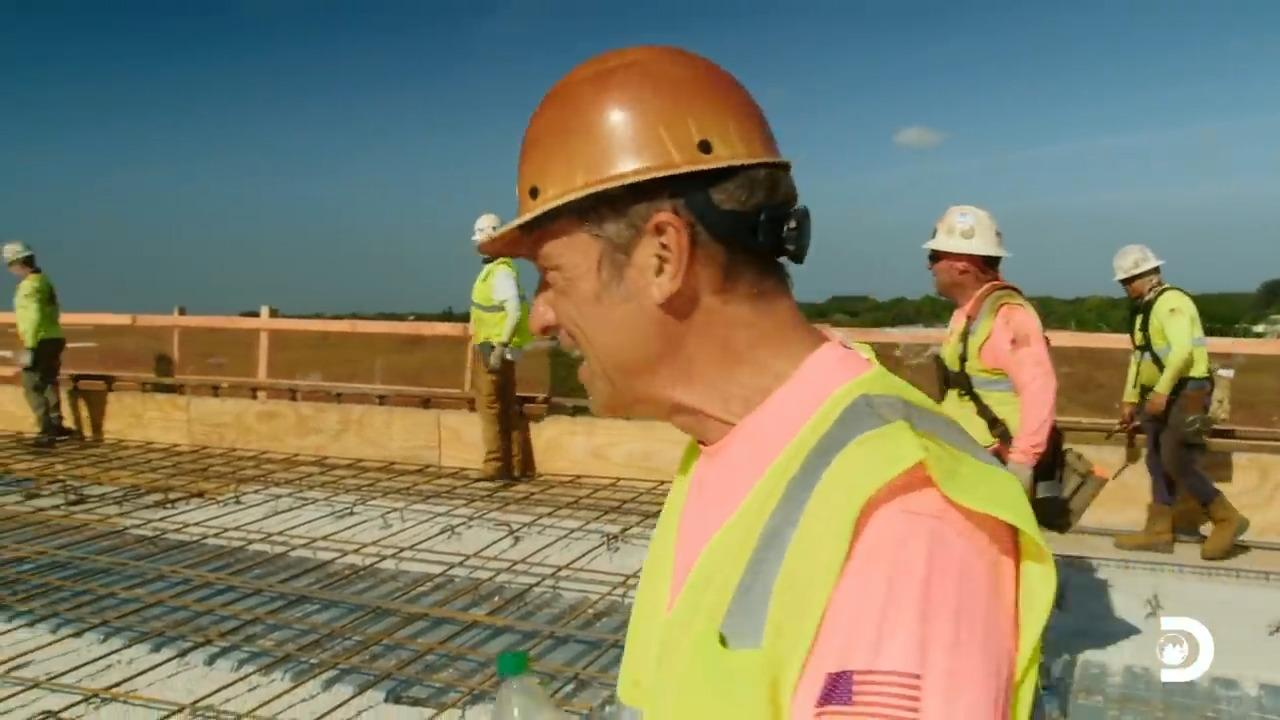Gloves: (1133, 391, 1171, 419), (484, 341, 507, 369), (1118, 408, 1140, 430), (16, 350, 35, 370)
Helmet: (474, 44, 794, 257), (921, 204, 1011, 258), (1111, 243, 1165, 281), (470, 212, 502, 242), (1, 240, 34, 264)
Person: (478, 43, 1060, 719), (1111, 243, 1250, 560), (921, 203, 1058, 508), (466, 212, 534, 481), (1, 240, 75, 444)
Safety Boot: (1200, 514, 1249, 553), (1114, 521, 1170, 555), (470, 464, 521, 479)
Safety Vest: (670, 460, 1005, 720), (951, 307, 1041, 433), (1137, 307, 1204, 383), (14, 286, 59, 346)
